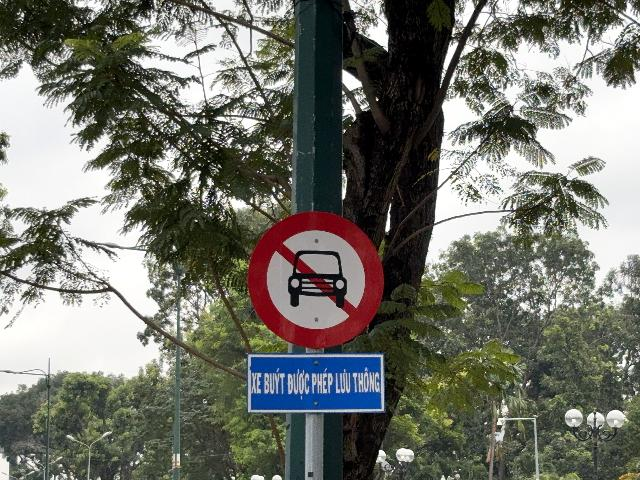cam-o-to: (247, 211, 383, 349)
